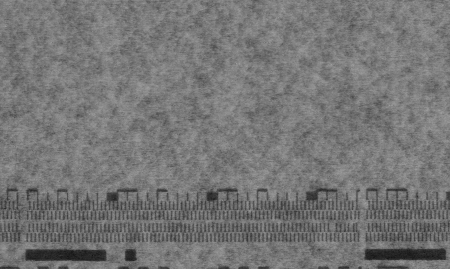Broken hole: (327, 222, 338, 233)
